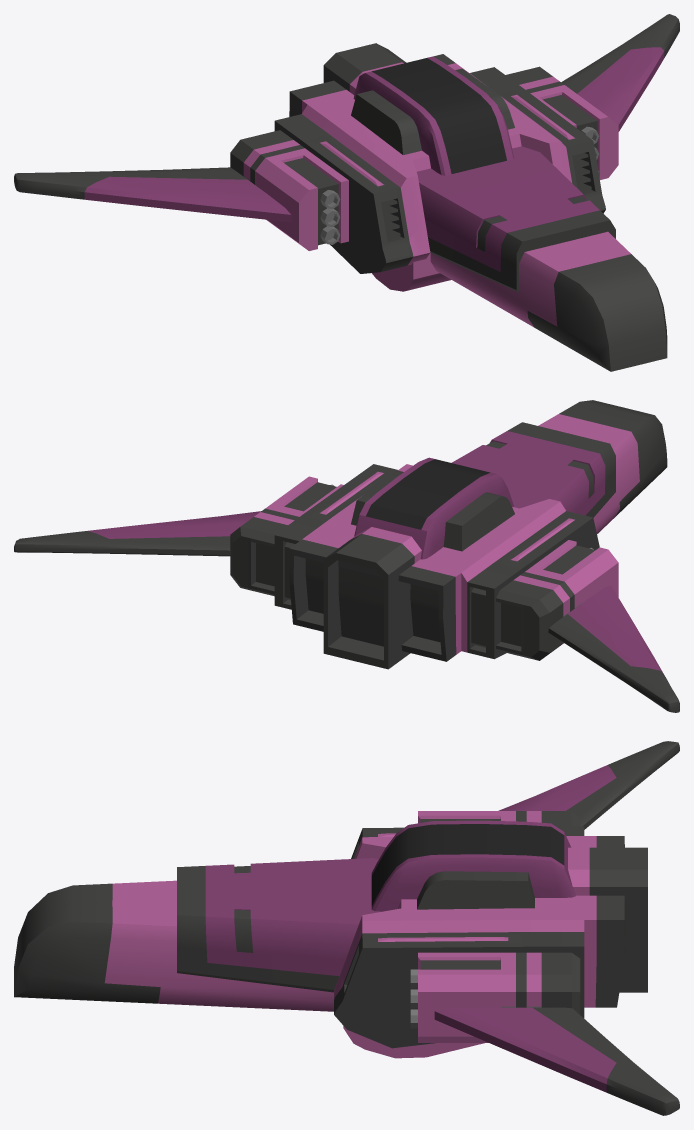
Rendered from spaceship-1.glb.
3 views of the same model, one above another, from view 1: azimuth 30°, elevation 25°; view 2: azimuth 150°, elevation 25°; view 3: azimuth 270°, elevation 25° (orthographic). The views are drawn at different scales.
Visible parts, largest first — view 1: Spaceship_FernandoTheFlamingo; view 2: Spaceship_FernandoTheFlamingo; view 3: Spaceship_FernandoTheFlamingo.
Part boxes in pixels (bbox=[...]): Spaceship_FernandoTheFlamingo: bbox=[14, 14, 679, 371]; Spaceship_FernandoTheFlamingo: bbox=[14, 400, 679, 712]; Spaceship_FernandoTheFlamingo: bbox=[14, 741, 679, 1115].
Bounding box in the file's own units: 11.14 × 2.53 × 8.66.
1 material, 1 textured.
